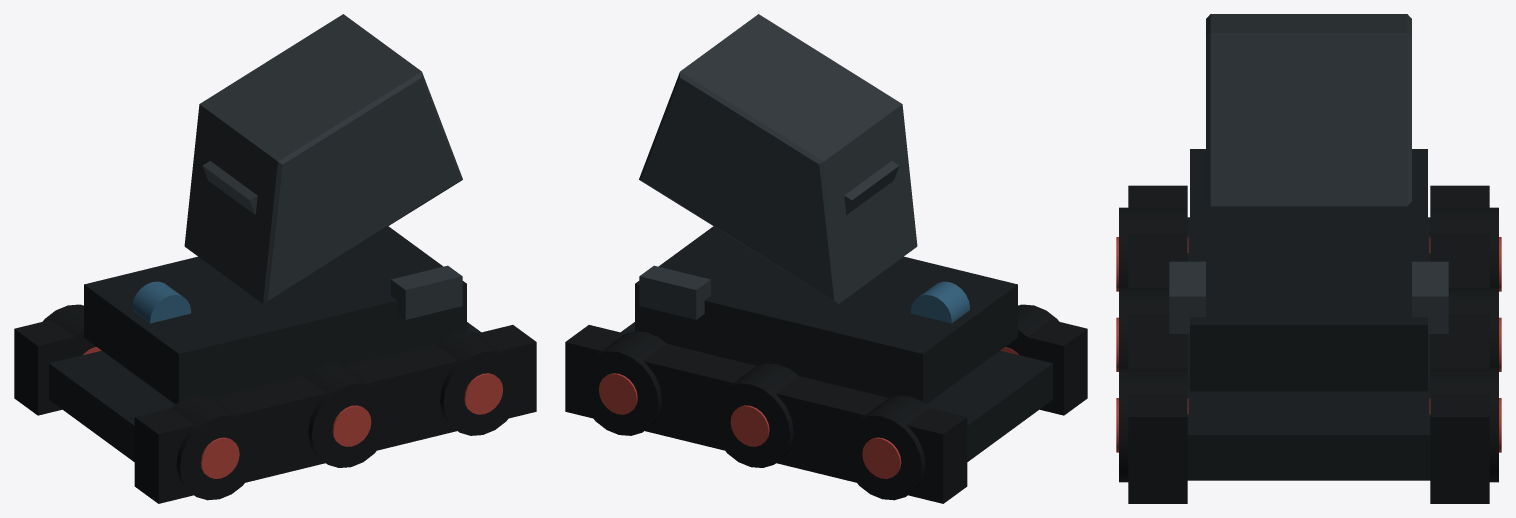
The model's file is guardian-tank-2.glb.
3 views of the same model, side by side, from view 1: azimuth 30°, elevation 25°; view 2: azimuth 150°, elevation 25°; view 3: azimuth 270°, elevation 25° (orthographic). The views are drawn at different scales.
Visible parts, largest first — view 1: Armoured wedge cannon, Guardian two hull, Track (×2), Track roller (×4), Lower chassis, Track hub (×3), Side guard, Rear joint, Wedge top rail; view 2: Armoured wedge cannon, Guardian two hull, Track (×2), Track roller (×4), Lower chassis, Track hub (×3), Side guard, Rear joint, Wedge top rail; view 3: Guardian two hull, Armoured wedge cannon, Track (×2), Lower chassis, Track roller (×6), Side guard (×2).
Part boxes in pixels (x1=…): Armoured wedge cannon: x1=184, y1=14, x2=462, y2=303; Guardian two hull: x1=84, y1=226, x2=466, y2=404; Track (×2): x1=14, y1=320, x2=536, y2=503; Track roller (×4): x1=42, y1=304, x2=522, y2=500; Lower chassis: x1=49, y1=322, x2=481, y2=461; Track hub (×3): x1=200, y1=373, x2=503, y2=478; Side guard: x1=391, y1=265, x2=462, y2=319; Rear joint: x1=132, y1=281, x2=191, y2=323; Wedge top rail: x1=202, y1=161, x2=257, y2=214; Armoured wedge cannon: x1=639, y1=14, x2=917, y2=303; Guardian two hull: x1=635, y1=226, x2=1017, y2=404; Track (×2): x1=565, y1=320, x2=1087, y2=503; Track roller (×4): x1=579, y1=304, x2=1059, y2=500; Lower chassis: x1=620, y1=322, x2=1052, y2=461; Track hub (×3): x1=598, y1=373, x2=901, y2=478; Side guard: x1=639, y1=265, x2=710, y2=319; Rear joint: x1=910, y1=281, x2=969, y2=323; Wedge top rail: x1=844, y1=161, x2=899, y2=214; Guardian two hull: x1=1190, y1=149, x2=1427, y2=391; Armoured wedge cannon: x1=1206, y1=14, x2=1411, y2=206; Track (×2): x1=1128, y1=185, x2=1489, y2=503; Lower chassis: x1=1187, y1=217, x2=1430, y2=480; Track roller (×6): x1=1119, y1=207, x2=1498, y2=482; Side guard (×2): x1=1169, y1=261, x2=1448, y2=333.
Bounding box in the file's own units: 2.39 × 2.07 × 1.68.
